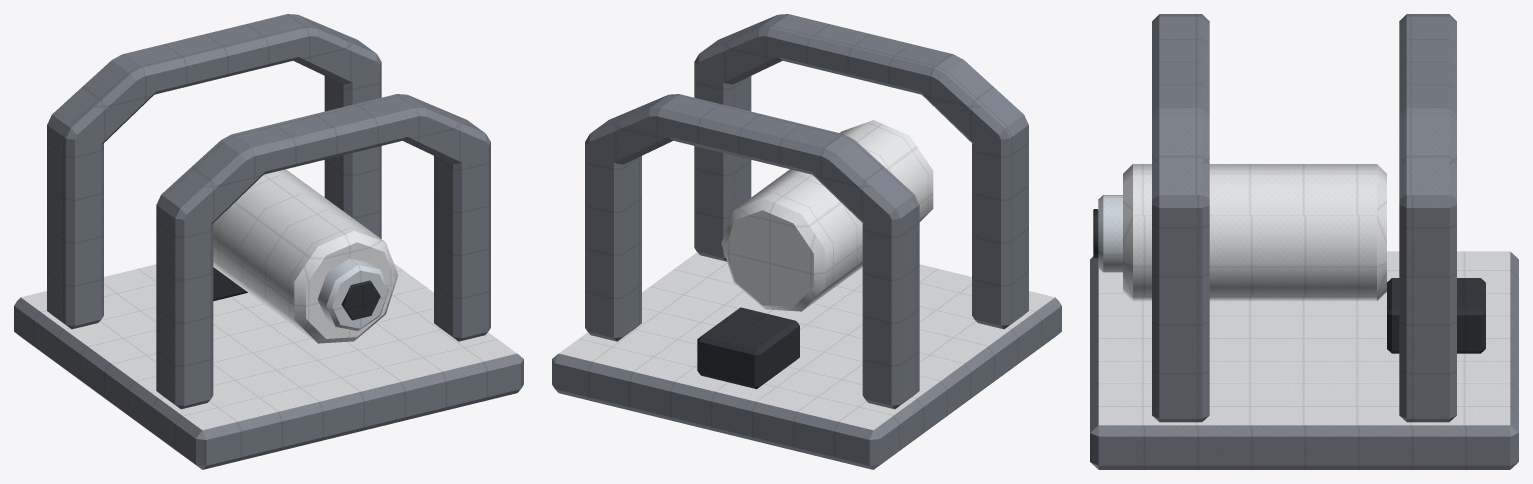
File: R4X_WeaponDurabilityBooster_LOD1.glb
3 views of the same model, side by side, from view 1: azimuth 30°, elevation 25°; view 2: azimuth 150°, elevation 25°; view 3: azimuth 270°, elevation 25° (orthographic). The views are drawn at different scales.
Visible parts, largest first — view 1: R4X_WeaponDurabilityBooster_LOD1; view 2: R4X_WeaponDurabilityBooster_LOD1; view 3: R4X_WeaponDurabilityBooster_LOD1.
Boxes of the visible parts, box(x1,y1,x2,y2) form: R4X_WeaponDurabilityBooster_LOD1: box(14, 14, 523, 469); R4X_WeaponDurabilityBooster_LOD1: box(552, 14, 1061, 469); R4X_WeaponDurabilityBooster_LOD1: box(1090, 14, 1518, 469).
Size of the model in its own units: 0.52 by 0.43 by 0.52.
5 materials, 4 textured.
